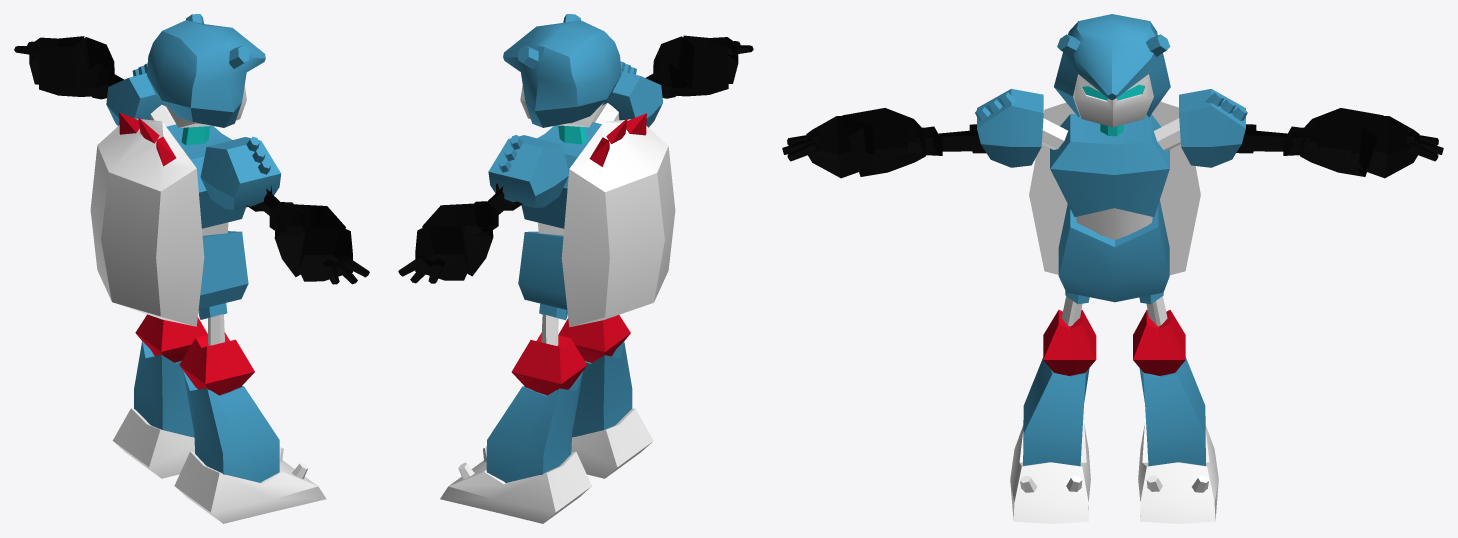
File: Reptile_revisi.fbx
3 renders of one model, left to right at view 1: azimuth 30°, elevation 25°; view 2: azimuth 150°, elevation 25°; view 3: azimuth 270°, elevation 25°, orthographic. The views are drawn at different scales.
Visible parts, largest first — view 1: Cube.032; view 2: Cube.032; view 3: Cube.032.
Part boxes in pixels (box(x1,y1,x2,y2)): Cube.032: box(14, 14, 369, 523); Cube.032: box(398, 14, 753, 523); Cube.032: box(782, 14, 1443, 523).
Size of the model in its own units: 182 by 437 by 564.
